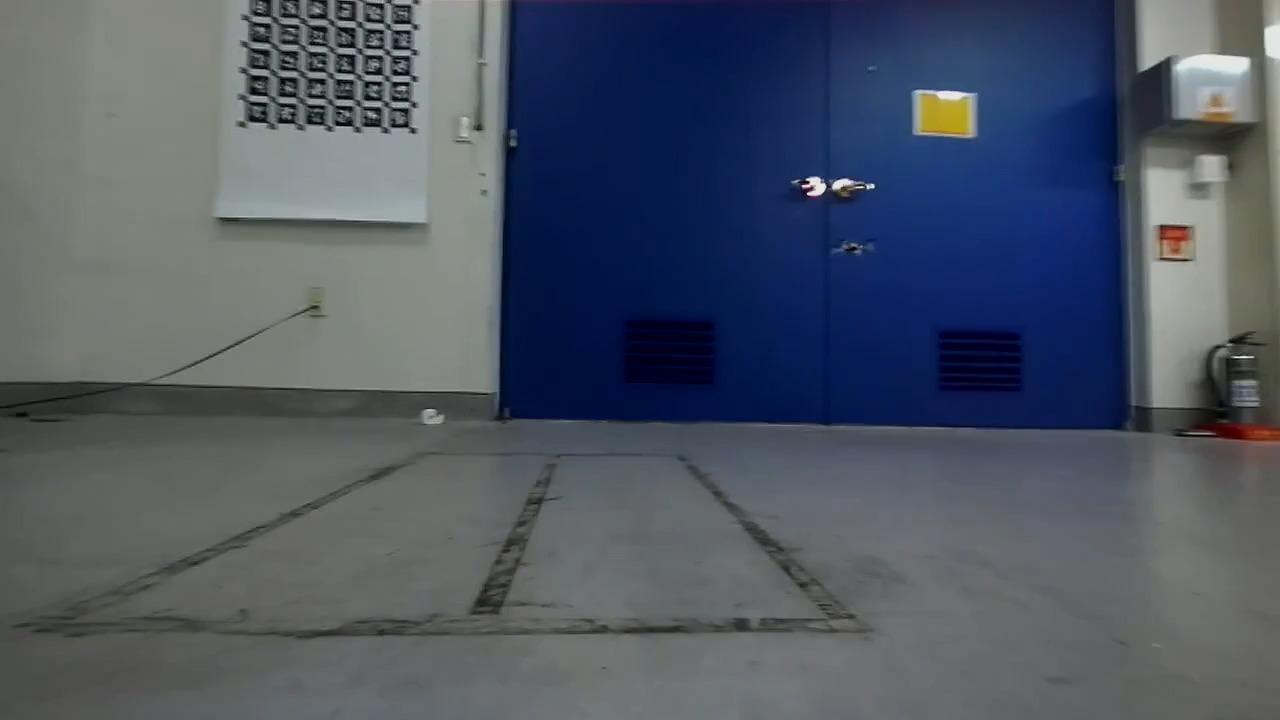crazyflie: (825, 234, 877, 263)
